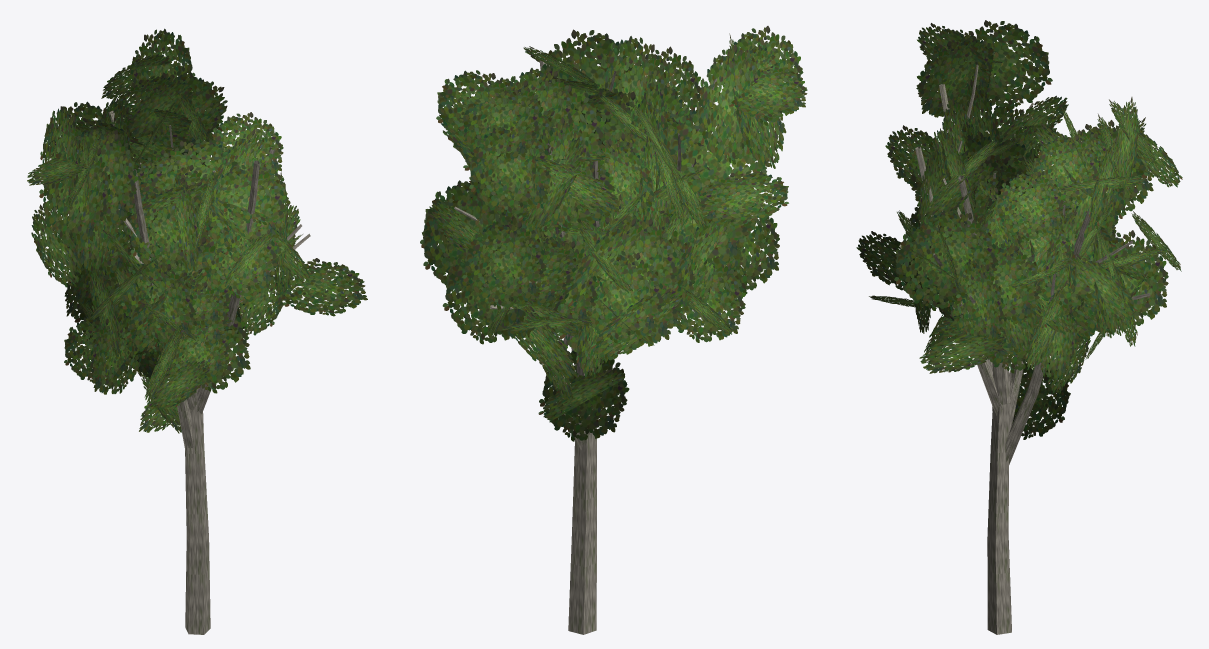
Rendered from Tree_Beech_1_LOD1.gltf.
3 renders of one model, left to right at view 1: azimuth 30°, elevation 25°; view 2: azimuth 150°, elevation 25°; view 3: azimuth 270°, elevation 25°, orthographic. The views are drawn at different scales.
Parts seen in each view (by area): view 1: Tree_Beech_1_LOD1; view 2: Tree_Beech_1_LOD1; view 3: Tree_Beech_1_LOD1.
Boxes of the visible parts, x1,y1,x2,y2 form: Tree_Beech_1_LOD1: (27,28,367,634); Tree_Beech_1_LOD1: (420,26,807,634); Tree_Beech_1_LOD1: (856,20,1182,634).
Size of the model in its own units: 14.57 by 22.34 by 12.76.
2 materials, 2 textured.
